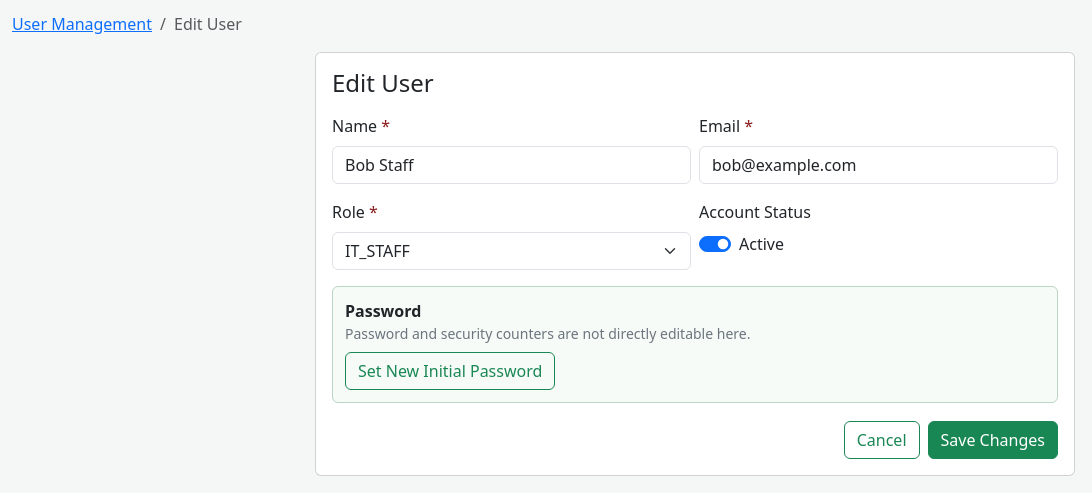
Test: AdminUsers create/edit/reset (Lab 3 Issue #50, UI-10/11) › edit Active is a minimal switch preserving behavior and input
Check: the field showing "Bob Staff" is shown, box [332,146,691,184]
Click the switch named "Active": (715, 244) [699,236,731,252]
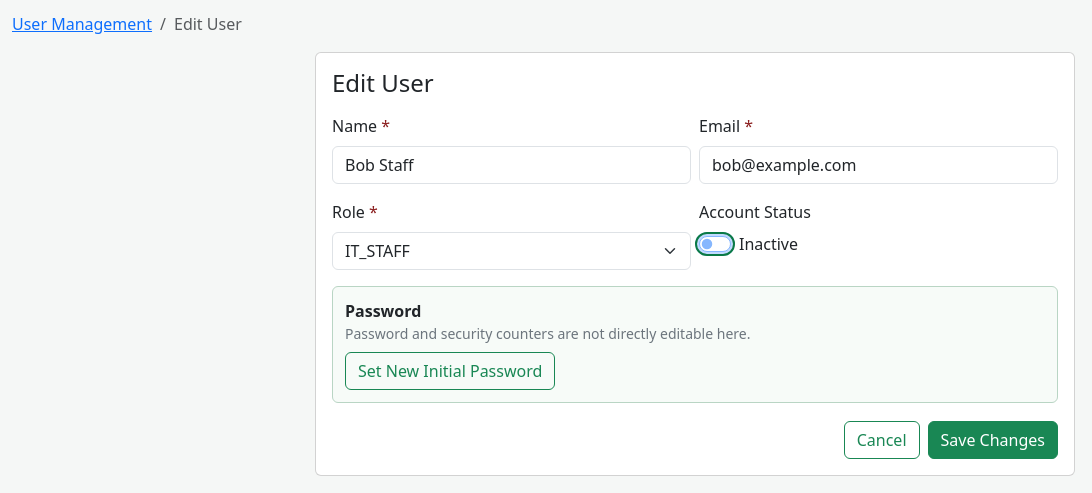
Check: the switch named "Active" is not checked, box [699,236,731,252]
Check: the text "Inactive" is shown, box [739,233,798,255]
